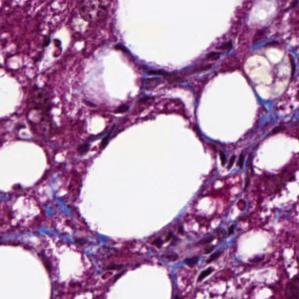inflammation: (149, 216, 235, 284), (209, 140, 255, 178), (21, 32, 67, 67)
